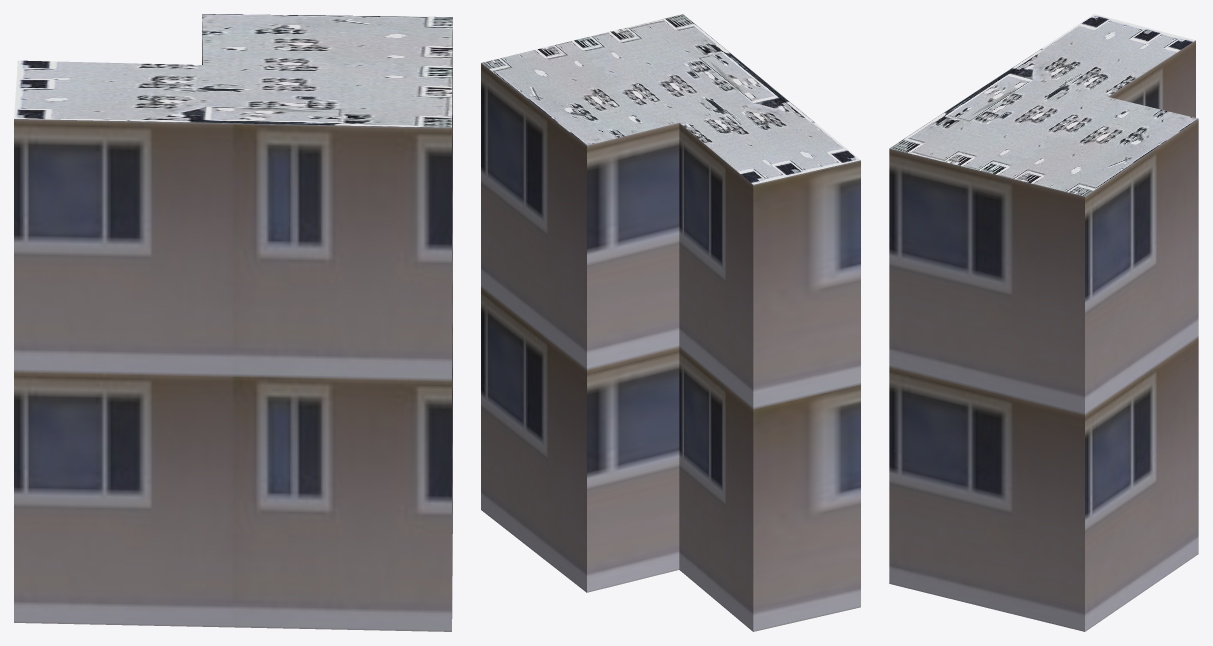
File: ResTex__3101.fbx
3 views of the same model, side by side, from view 1: azimuth 30°, elevation 25°; view 2: azimuth 150°, elevation 25°; view 3: azimuth 270°, elevation 25° (orthographic). The views are drawn at different scales.
Visible parts, largest first — view 1: CityEngineMaterial_21_m, CityEngineMaterial_8_m; view 2: CityEngineMaterial_21_m, CityEngineMaterial_8_m; view 3: CityEngineMaterial_21_m, CityEngineMaterial_8_m.
Part boxes in pixels (left/top/right/bottom): CityEngineMaterial_21_m: left=14, top=22, right=452, bottom=631; CityEngineMaterial_8_m: left=14, top=14, right=452, bottom=127; CityEngineMaterial_21_m: left=481, top=63, right=860, bottom=631; CityEngineMaterial_8_m: left=481, top=14, right=860, bottom=184; CityEngineMaterial_21_m: left=889, top=40, right=1198, bottom=631; CityEngineMaterial_8_m: left=889, top=14, right=1198, bottom=196.
Bounding box in the file's own units: 5.4 × 6 × 3.87.
2 materials, 2 textured.
